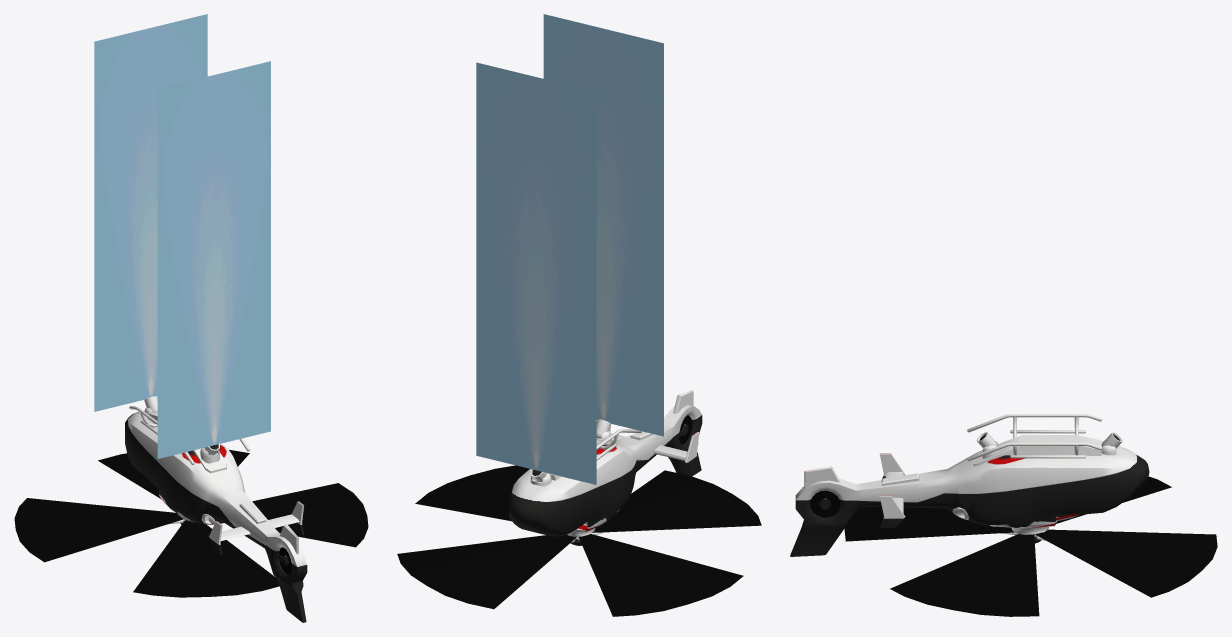
Rendered from helicopter_low.fbx.
The picture shows the model from 3 angles, left to right: view 1: azimuth 30°, elevation 25°; view 2: azimuth 150°, elevation 25°; view 3: azimuth 270°, elevation 25°; orthographic projection. The views are drawn at different scales.
Visible parts, largest first — view 1: 107_lightbeam_mesh_rear, 71_lightbeam_mesh_front, 38_mesh_opaque_propelfrontfast_lod_00, 140_mesh_opaque_body_lod_00; view 2: 71_lightbeam_mesh_front, 107_lightbeam_mesh_rear, 38_mesh_opaque_propelfrontfast_lod_00, 140_mesh_opaque_body_lod_00; view 3: 140_mesh_opaque_body_lod_00, 38_mesh_opaque_propelfrontfast_lod_00.
Boxes of the visible parts, x1=… form: 107_lightbeam_mesh_rear: x1=157, y1=61, x2=270, y2=458; 71_lightbeam_mesh_front: x1=94, y1=14, x2=207, y2=411; 38_mesh_opaque_propelfrontfast_lod_00: x1=14, y1=449, x2=368, y2=597; 140_mesh_opaque_body_lod_00: x1=125, y1=406, x2=307, y2=622; 71_lightbeam_mesh_front: x1=476, y1=62, x2=596, y2=484; 107_lightbeam_mesh_rear: x1=543, y1=14, x2=663, y2=436; 38_mesh_opaque_propelfrontfast_lod_00: x1=397, y1=465, x2=761, y2=616; 140_mesh_opaque_body_lod_00: x1=509, y1=390, x2=702, y2=536; 140_mesh_opaque_body_lod_00: x1=790, y1=414, x2=1149, y2=556; 38_mesh_opaque_propelfrontfast_lod_00: x1=844, y1=476, x2=1217, y2=616.
Bounding box in the file's own units: 10.73 × 16.27 × 12.29.
